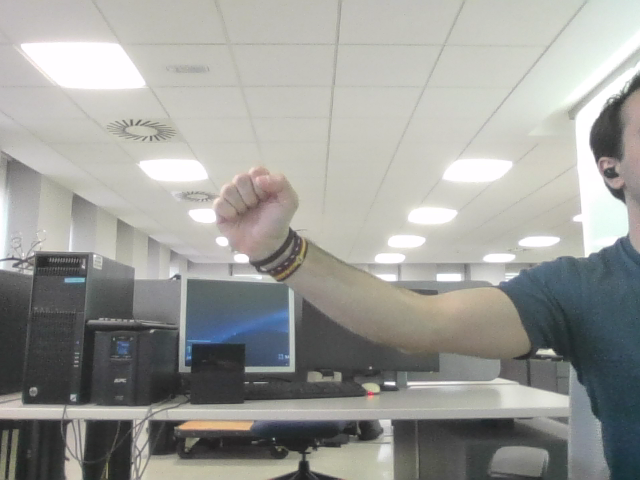Puño: (222, 173, 285, 225)
